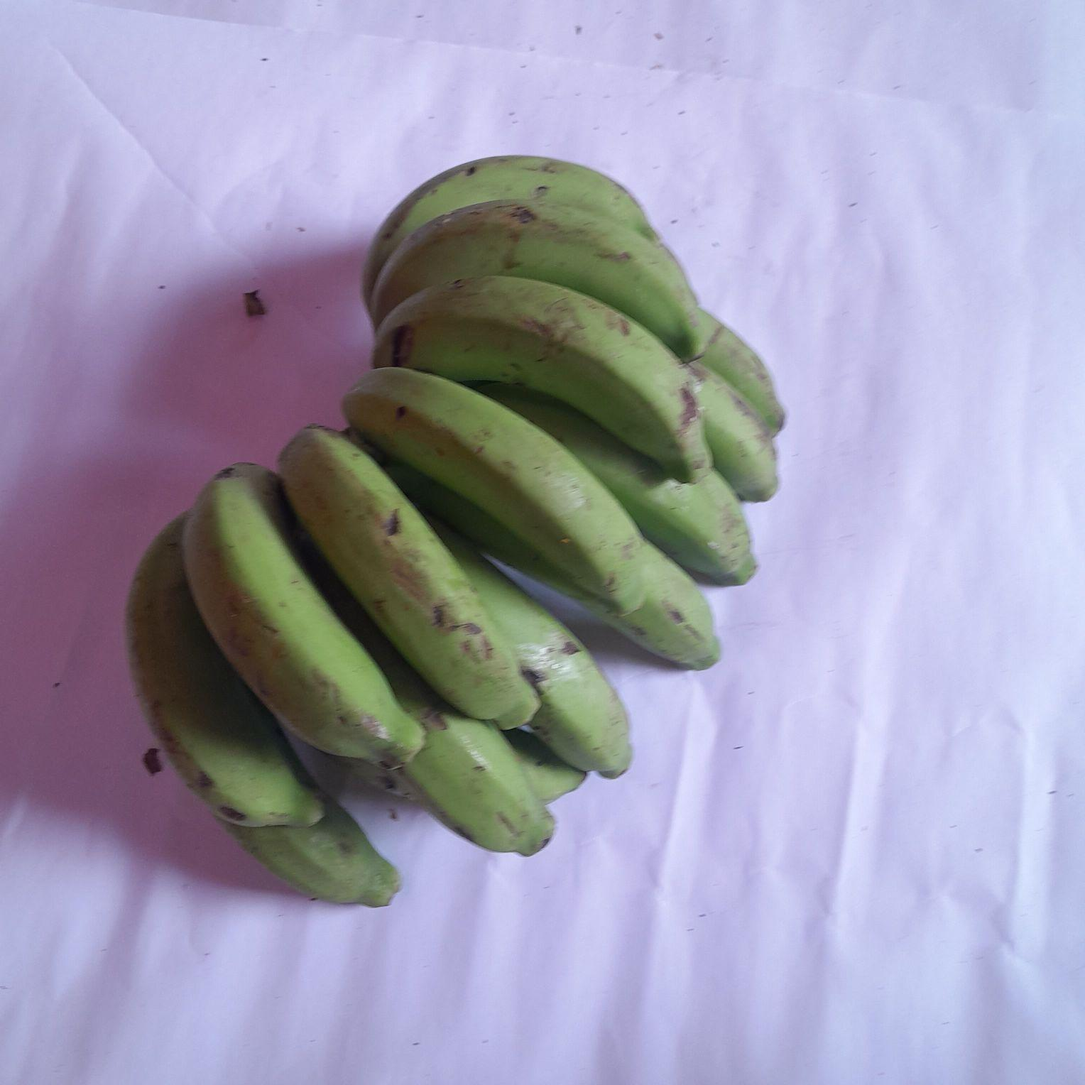Banana Unripe: (127, 516, 398, 906), (280, 426, 538, 729), (343, 367, 644, 613), (184, 464, 424, 767), (481, 384, 757, 585), (371, 199, 704, 359), (438, 526, 632, 778), (362, 155, 659, 306), (403, 712, 555, 855), (218, 797, 401, 907), (598, 542, 721, 670), (689, 362, 778, 501), (699, 309, 786, 433)
